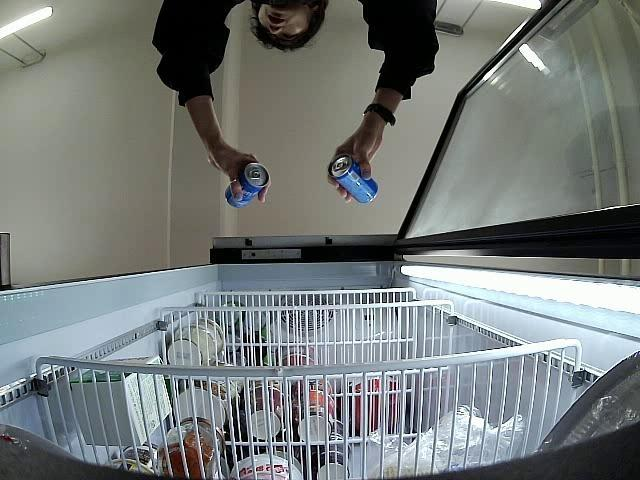15_letsbe: (330, 153, 380, 205), (223, 162, 270, 209)
